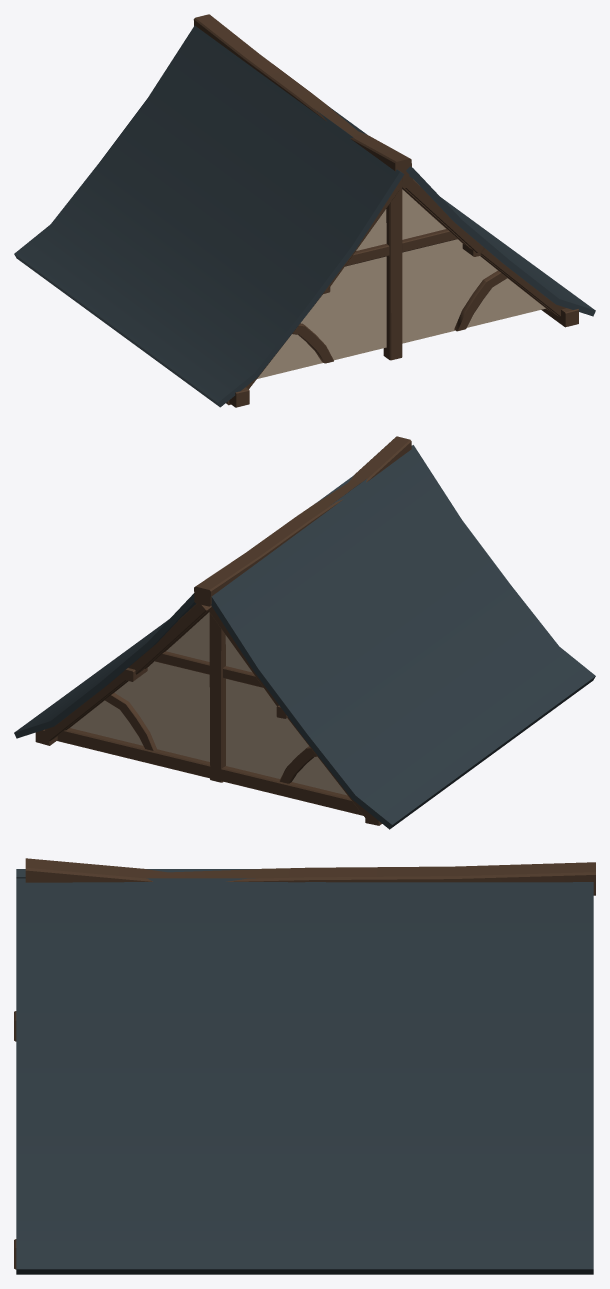
The model's file is Roof3.fbx.
3 renders of one model, top to bottom at view 1: azimuth 30°, elevation 25°; view 2: azimuth 150°, elevation 25°; view 3: azimuth 270°, elevation 25°, orthographic. The views are drawn at different scales.
Parts seen in each view (by area): view 1: Cube.103; view 2: Cube.103; view 3: Cube.103.
Part boxes in pixels (x1,y1,x2,y2): Cube.103: [14, 14, 595, 407]; Cube.103: [14, 436, 595, 829]; Cube.103: [14, 858, 595, 1274].
Size of the model in its own units: 7.4 by 3.85 by 6.95.
